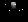person: (4, 4, 9, 14), (12, 4, 17, 13)
